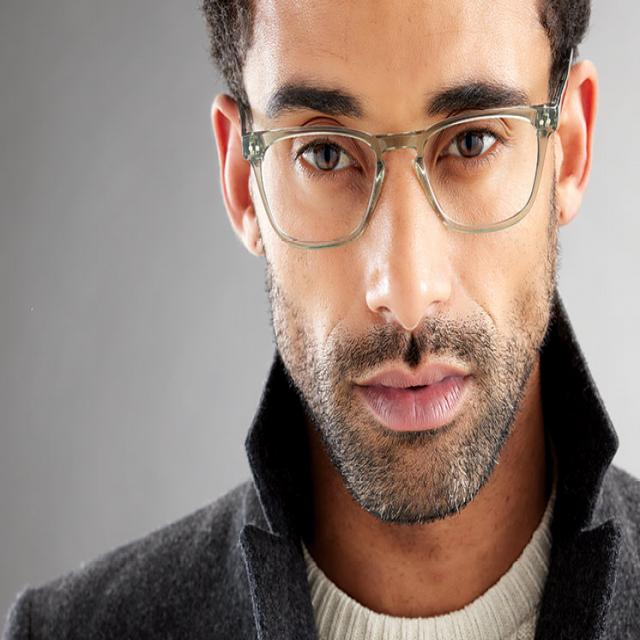Glasses: (234, 40, 581, 253)
